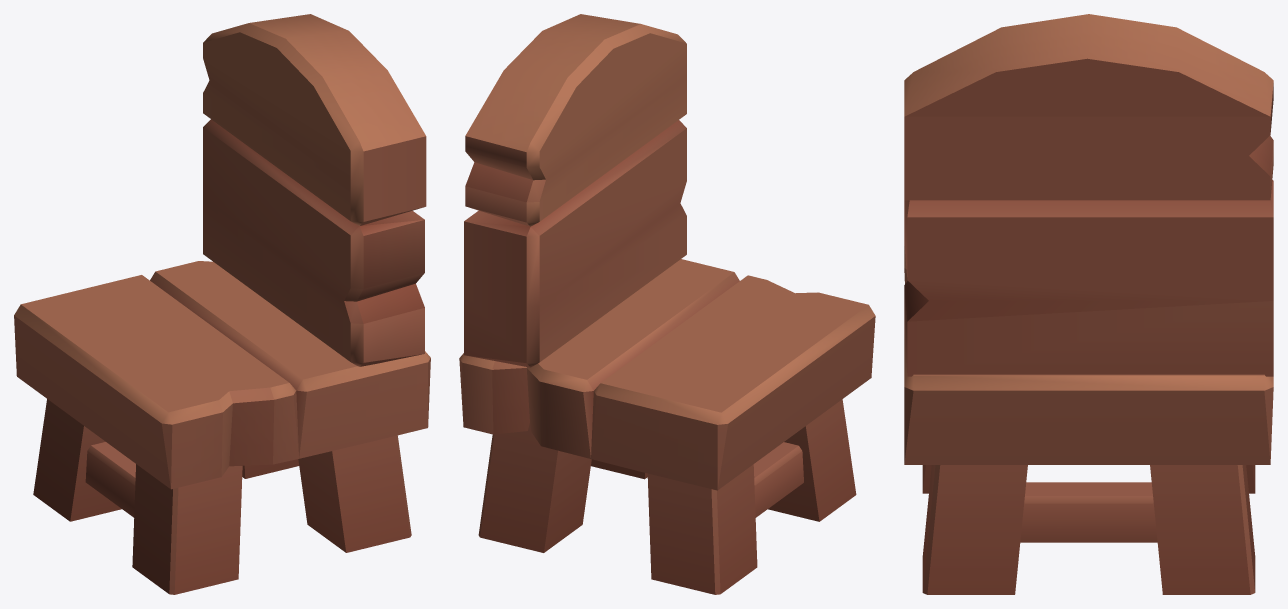
The model's file is dungeon-chair.glb.
The picture shows the model from 3 angles, left to right: view 1: azimuth 30°, elevation 25°; view 2: azimuth 150°, elevation 25°; view 3: azimuth 270°, elevation 25°; orthographic projection. The views are drawn at different scales.
Visible parts, largest first — view 1: dungeon-chair; view 2: dungeon-chair; view 3: dungeon-chair.
Boxes of the visible parts, x1,y1,x2,y2 form: dungeon-chair: (14,14,430,594); dungeon-chair: (459,14,875,594); dungeon-chair: (904,14,1273,594).
Size of the model in its own units: 0.5625 by 0.9199 by 0.5625.
1 material, 1 textured.
